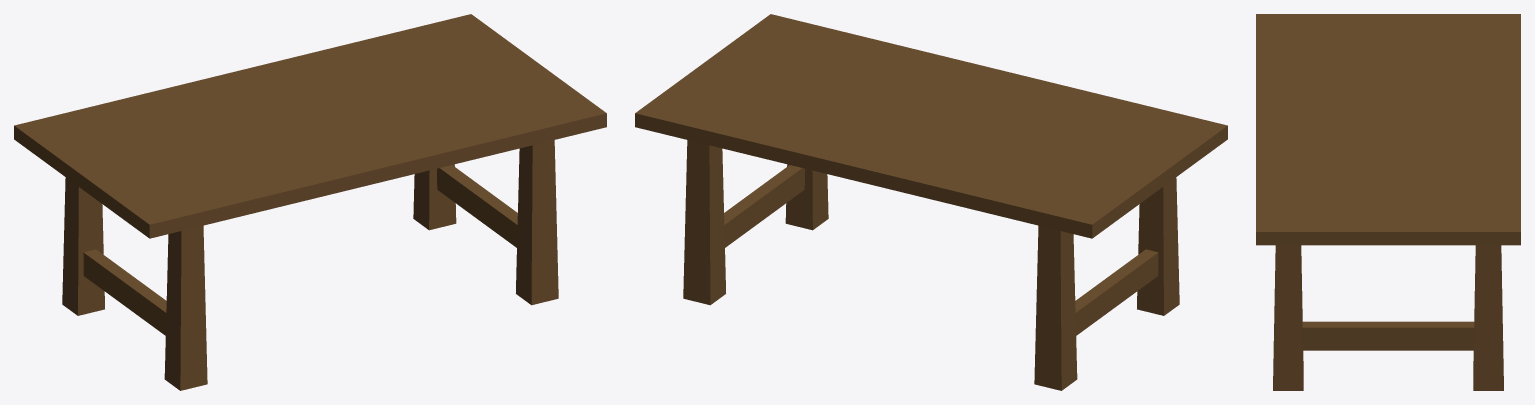
File: Table_01.glb
The picture shows the model from 3 angles, left to right: view 1: azimuth 30°, elevation 25°; view 2: azimuth 150°, elevation 25°; view 3: azimuth 270°, elevation 25°; orthographic projection. The views are drawn at different scales.
Visible parts, largest first — view 1: Table_01; view 2: Table_01; view 3: Table_01.
Part boxes in pixels (x1=…): Table_01: x1=14, y1=14, x2=606, y2=390; Table_01: x1=635, y1=14, x2=1227, y2=390; Table_01: x1=1256, y1=14, x2=1520, y2=390.
Size of the model in its own units: 3.05 by 1.16 by 1.56.
